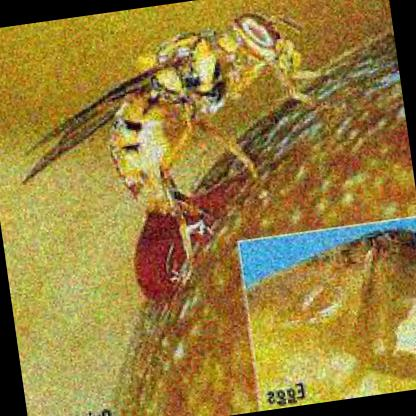fruit fly: (21, 16, 324, 220)
